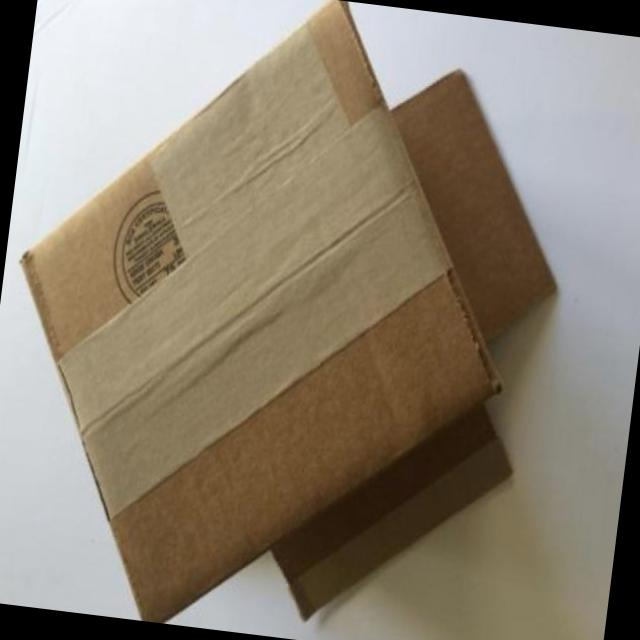cardboard paper: (22, 0, 552, 623)
